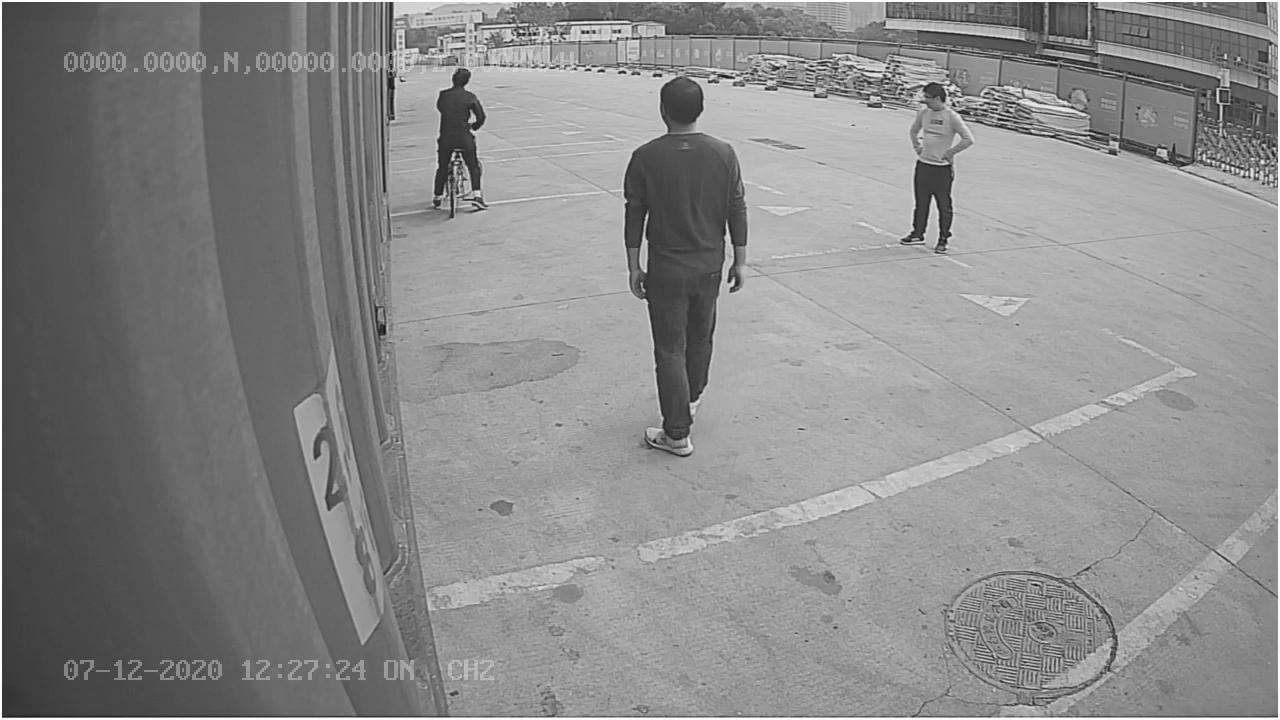person: (620, 73, 753, 462)
